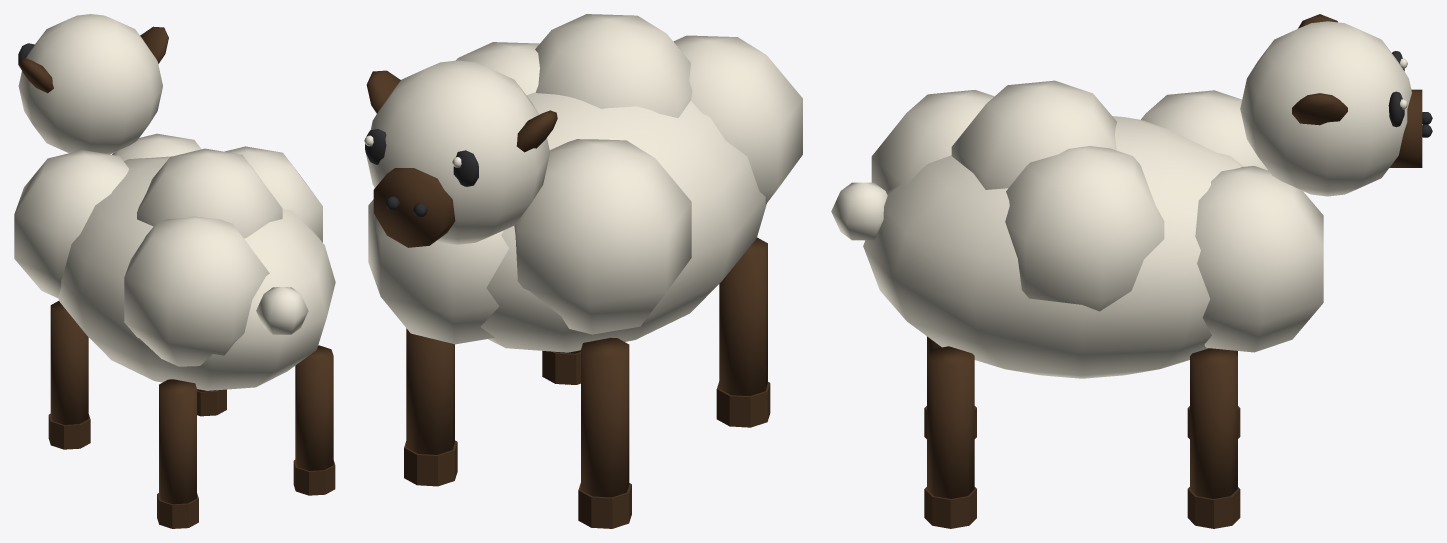
Rendered from sheep.fbx.
3 views of the same model, side by side, from view 1: azimuth 30°, elevation 25°; view 2: azimuth 150°, elevation 25°; view 3: azimuth 270°, elevation 25° (orthographic). The views are drawn at different scales.
Visible parts, largest first — view 1: Body, Head, LegL, LegR, ArmL, ArmR; view 2: Body, Head, ArmL, LegL, ArmR, LegR; view 3: Body, Head, LegR, ArmR.
Boxes of the visible parts, <box> form: Body: <box>14,133,335,390</box>; Head: <box>18,14,168,154</box>; LegL: <box>157,379,198,528</box>; LegR: <box>293,345,335,495</box>; ArmL: <box>48,301,90,449</box>; ArmR: <box>197,389,226,416</box>; Body: <box>368,14,802,352</box>; Head: <box>364,60,557,247</box>; ArmL: <box>578,337,631,528</box>; LegL: <box>716,237,770,427</box>; ArmR: <box>404,328,457,486</box>; LegR: <box>542,350,580,384</box>; Body: <box>831,80,1323,378</box>; Head: <box>1240,14,1432,196</box>; LegR: <box>924,346,976,528</box>; ArmR: <box>1187,348,1240,528</box>.
Bounding box in the file's own units: 0.4225 × 0.7545 × 0.62.
